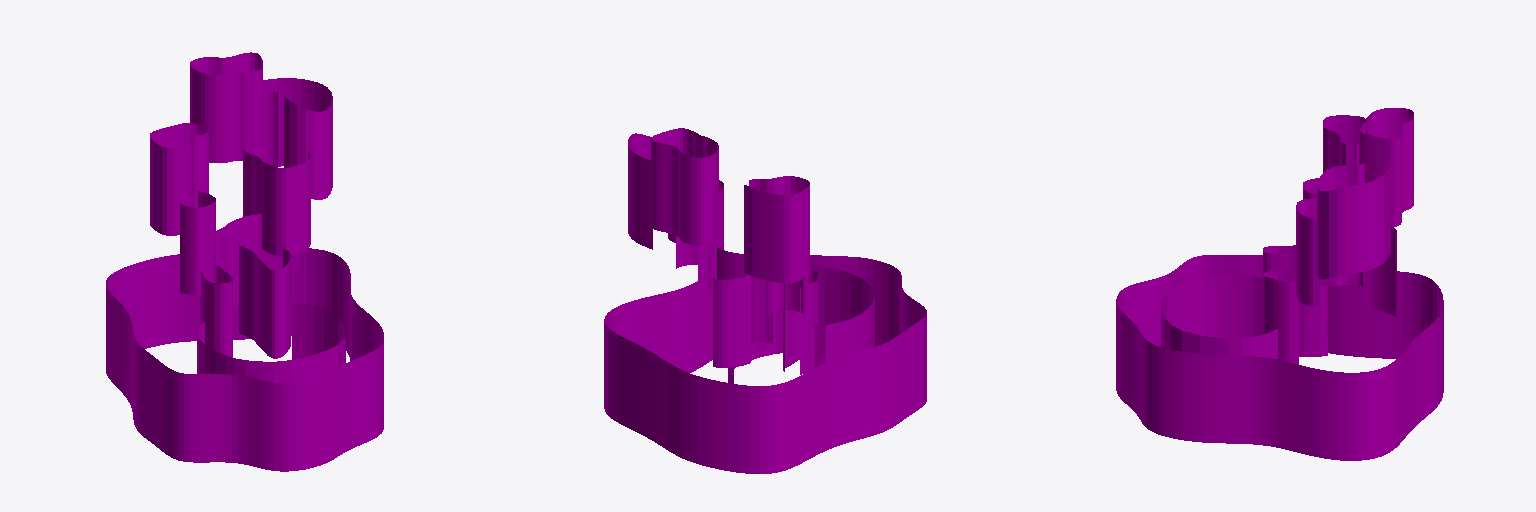
The model's file is SunBeachPlanet_MoveLimit.obj.
3 renders of one model, left to right at view 1: azimuth 30°, elevation 25°; view 2: azimuth 150°, elevation 25°; view 3: azimuth 270°, elevation 25°, orthographic.
Parts seen in each view (by area): view 1: FloatyBeachTheSecond_MoveLimit_Plane.001; view 2: FloatyBeachTheSecond_MoveLimit_Plane.001; view 3: FloatyBeachTheSecond_MoveLimit_Plane.001.
Part boxes in pixels (x1,y1,x2,y2): FloatyBeachTheSecond_MoveLimit_Plane.001: (106,52,383,471); FloatyBeachTheSecond_MoveLimit_Plane.001: (604,128,926,473); FloatyBeachTheSecond_MoveLimit_Plane.001: (1116,108,1443,460).
Size of the model in its own units: 11079 by 12781 by 12974.